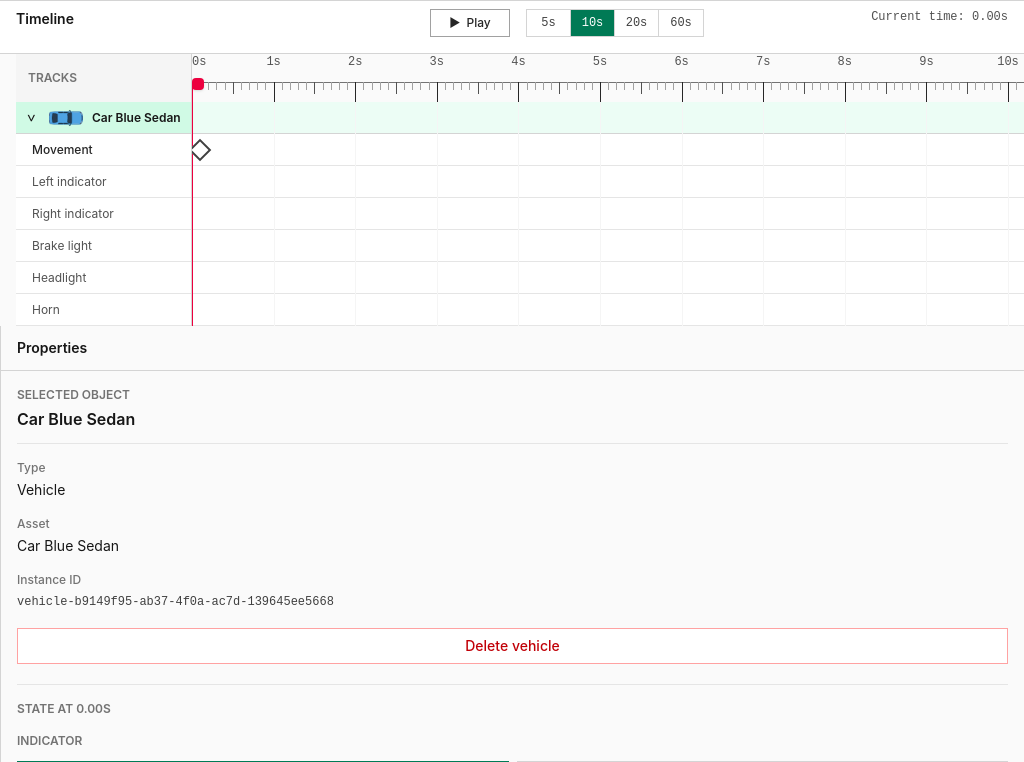
Test: F7.3 Vehicle deletion › opens an accessible dialog without mutation and cancels safely
Click the button "Delete vehicle" at (512, 646), box [17,628,1008,664]
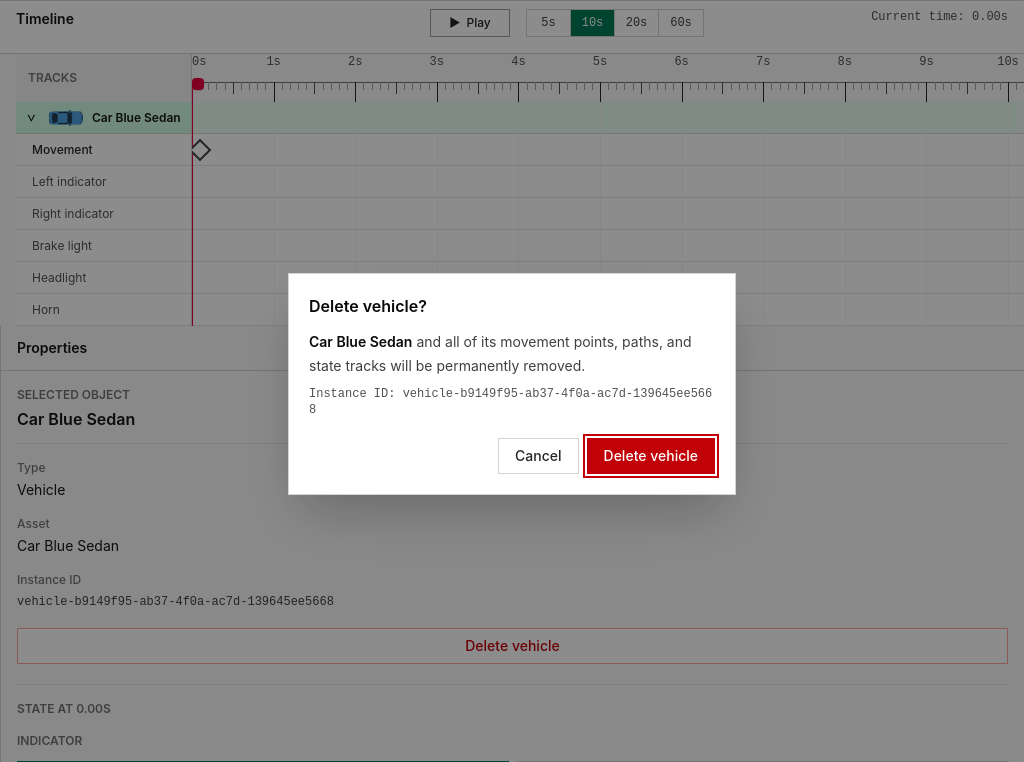
Expected: the button "Cancel" is shown, [498,438,579,474]
Expected: the button "Delete vehicle" is shown
Expected: the dialog shows "Delete vehicle?", [309,296,427,316]
Press Tab in the button "Delete vehicle", box [586,438,715,474]
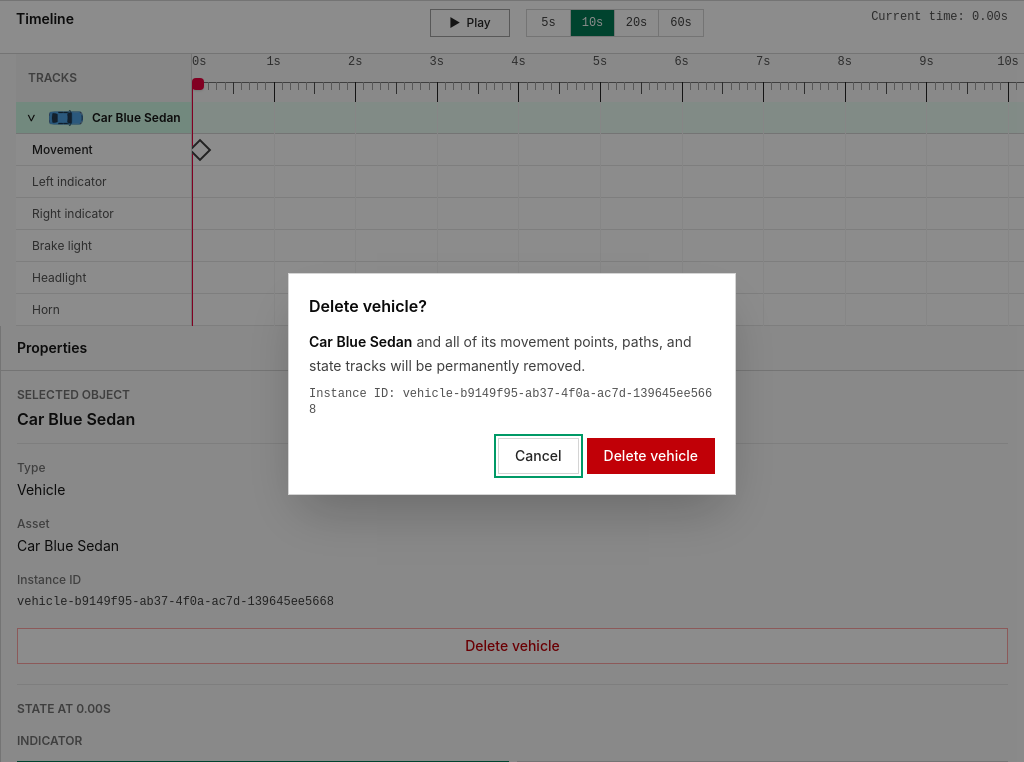
Press Tab in the button "Cancel", box [498,438,579,474]
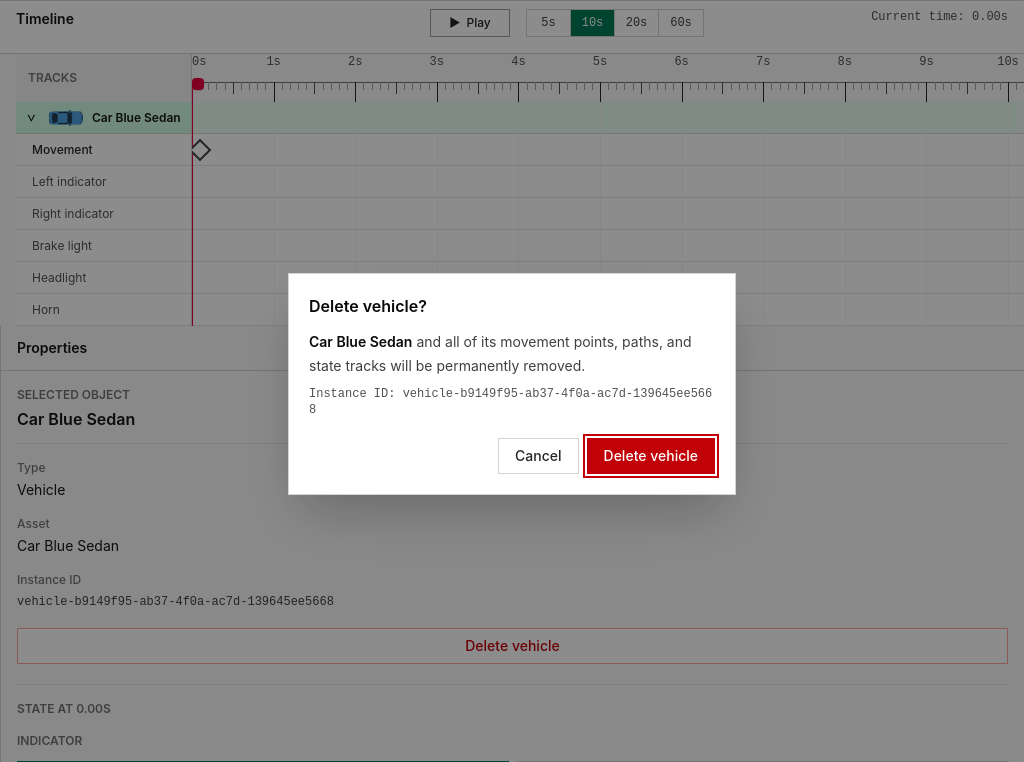
Click the button "Cancel" at (538, 456), box [498,438,579,474]
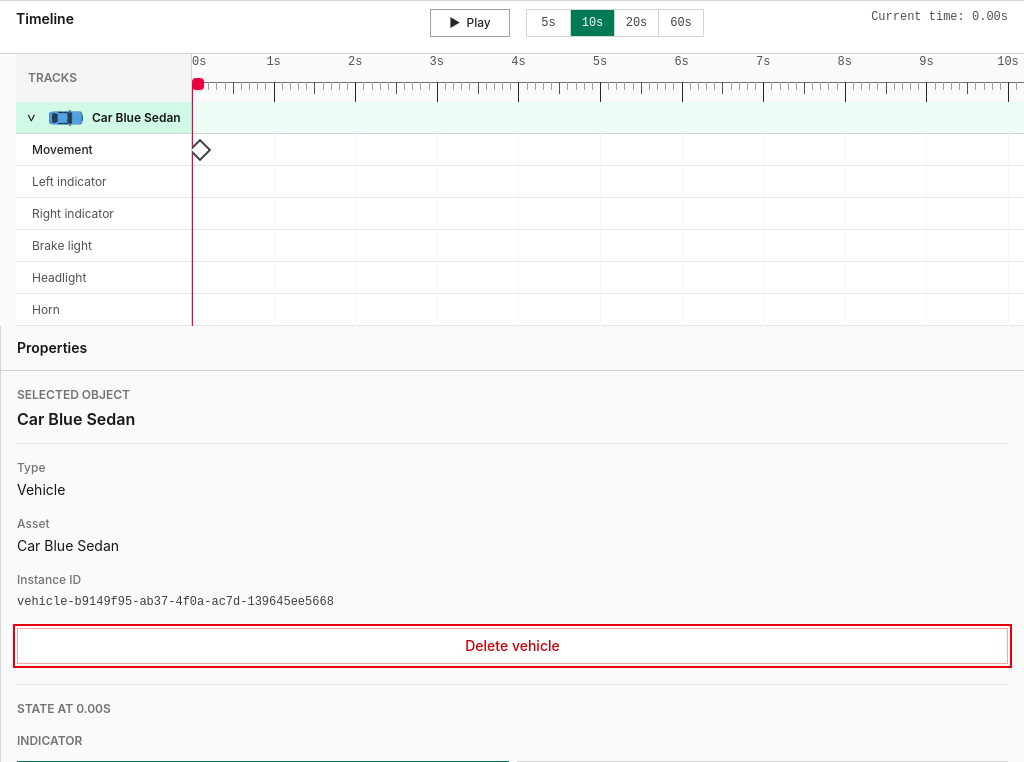
Expected: the dialog is gone
Click the button "Delete vehicle" at (512, 646), box [17,628,1008,664]
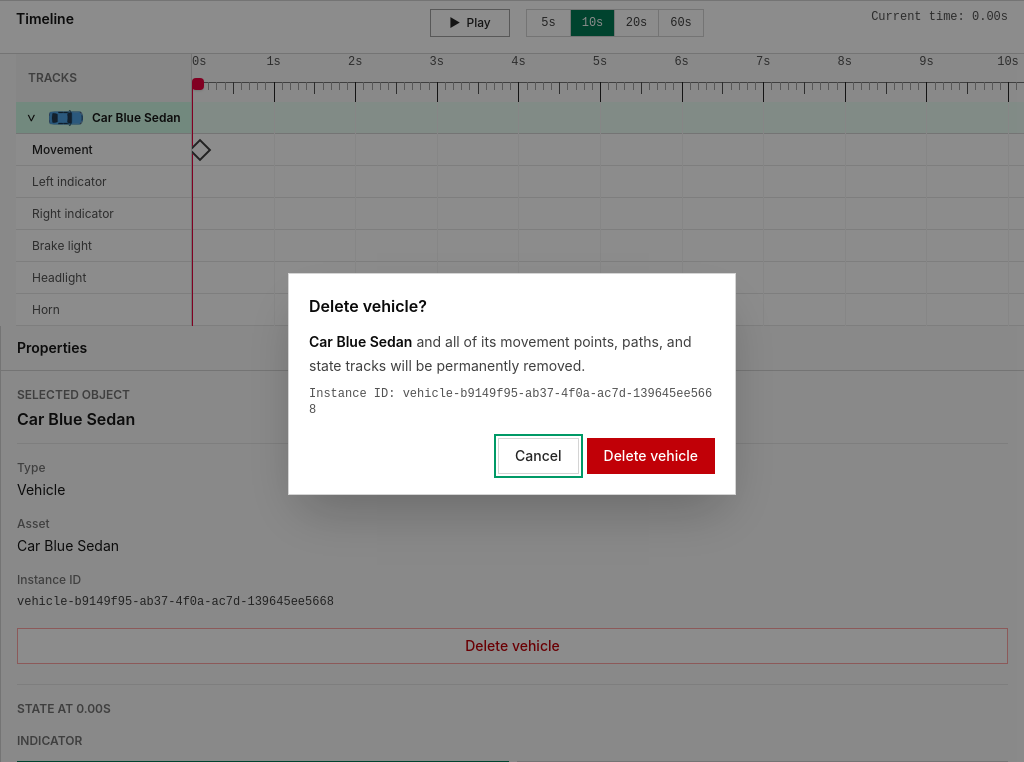
Press Escape in the dialog, box [288,273,736,495]
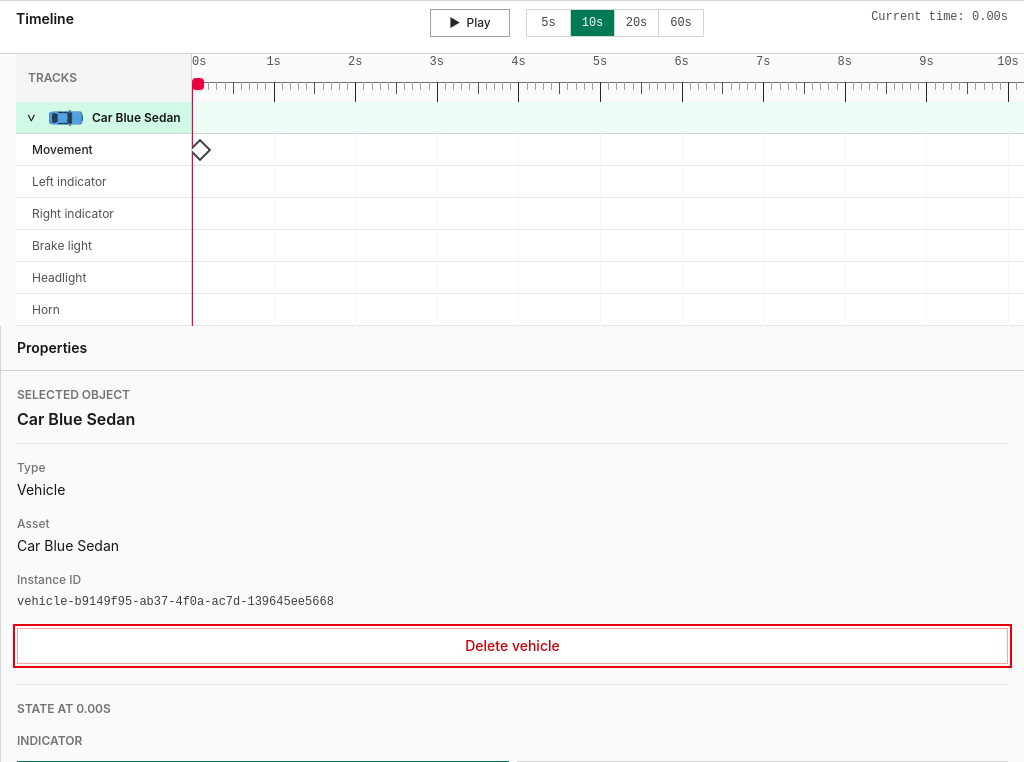
Expected: the dialog is gone
